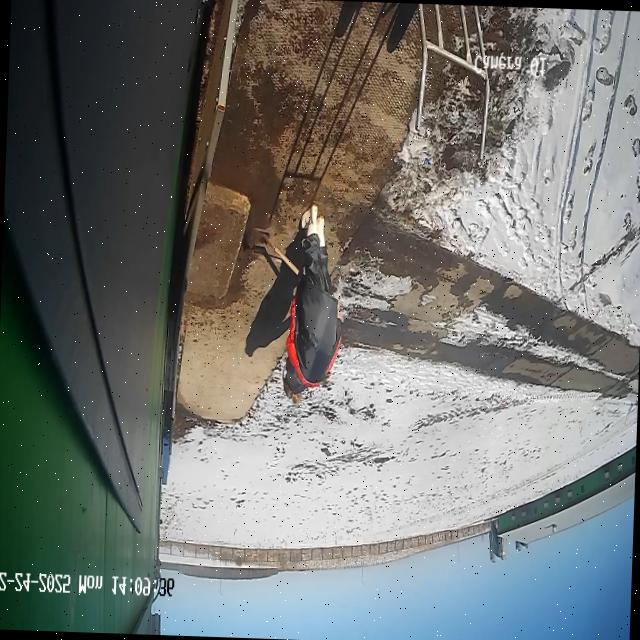Red uniform: (280, 226, 346, 397)
